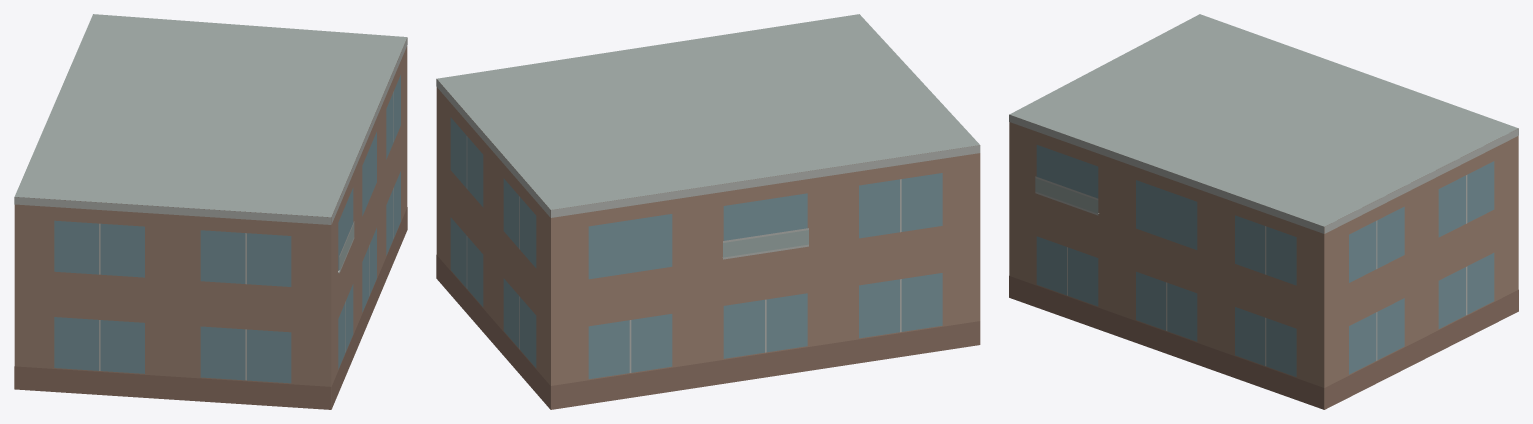
File: survey-upis-32891045.glb
The picture shows the model from 3 angles, left to right: view 1: azimuth 30°, elevation 25°; view 2: azimuth 150°, elevation 25°; view 3: azimuth 270°, elevation 25°; orthographic projection. The views are drawn at different scales.
Visible parts, largest first — view 1: survey-upis-32891045.tmp; view 2: survey-upis-32891045.tmp; view 3: survey-upis-32891045.tmp.
Boxes of the visible parts, x1,y1,x2,y2 form: survey-upis-32891045.tmp: (14,14,407,409); survey-upis-32891045.tmp: (436,14,980,409); survey-upis-32891045.tmp: (1009,14,1518,409).
Bounding box in the file's own units: 15.21 × 6.1 × 15.39.
